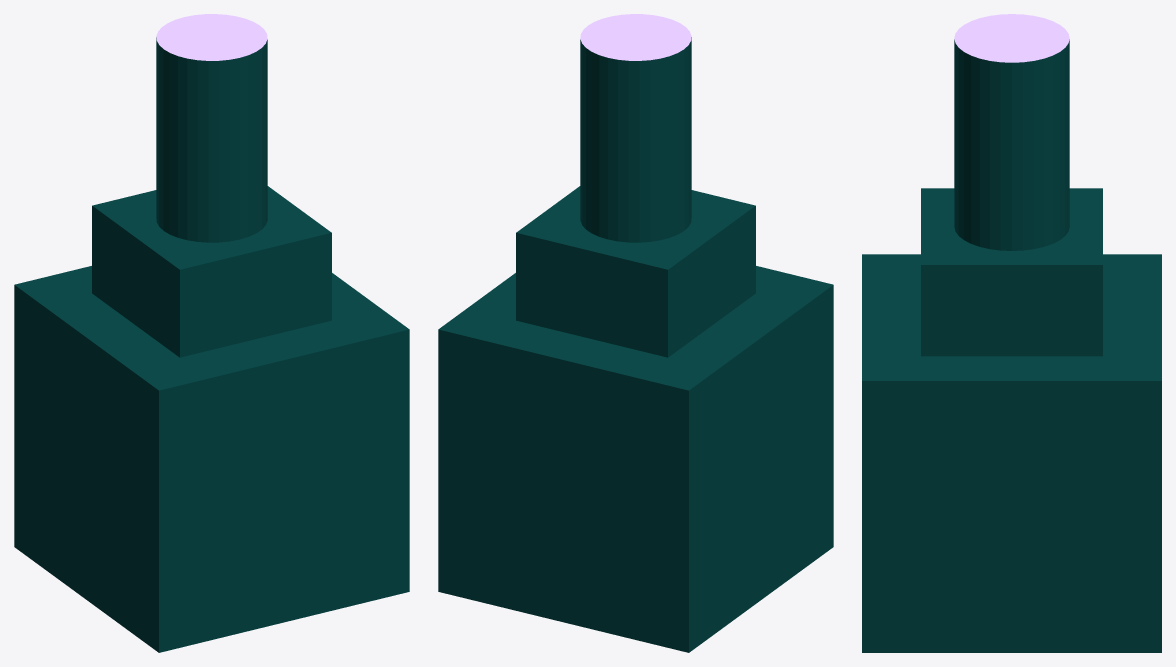
3 views of the same model, side by side, from view 1: azimuth 30°, elevation 25°; view 2: azimuth 150°, elevation 25°; view 3: azimuth 270°, elevation 25° (orthographic). The views are drawn at different scales.
Visible parts, largest first — view 1: Cube; view 2: Cube; view 3: Cube.
Part boxes in pixels (x1=…): Cube: x1=14, y1=14, x2=409, y2=652; Cube: x1=438, y1=14, x2=833, y2=652; Cube: x1=862, y1=14, x2=1161, y2=652.
Size of the model in its own units: 200 by 406 by 200.
